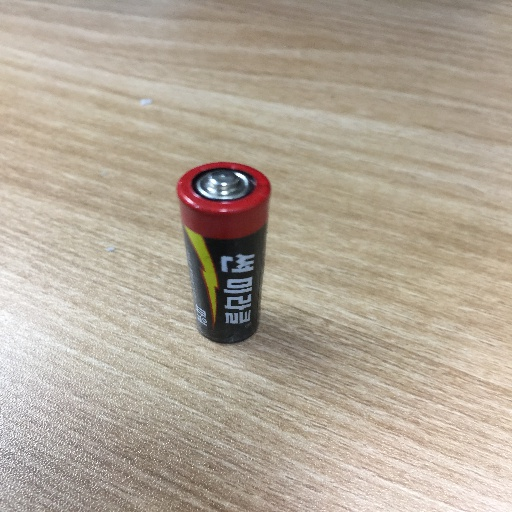Battery_0: (170, 144, 291, 364)
